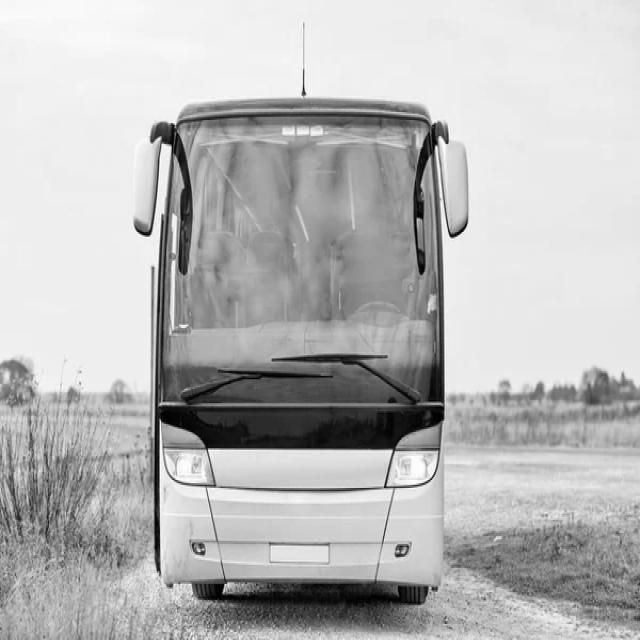Bus: (133, 96, 470, 604)
